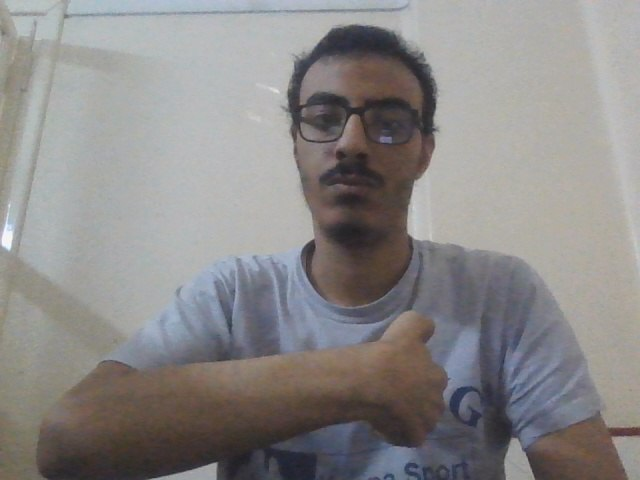Me: (344, 306, 472, 459)
